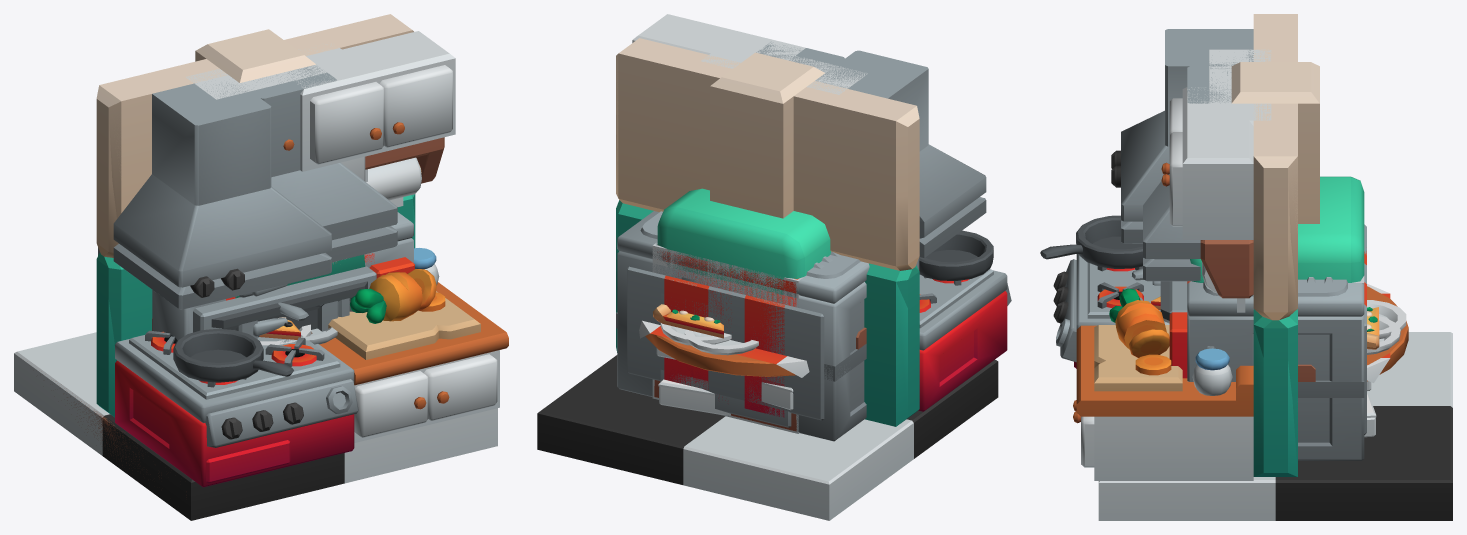
Rendered from props.glb.
The picture shows the model from 3 angles, left to right: view 1: azimuth 30°, elevation 25°; view 2: azimuth 150°, elevation 25°; view 3: azimuth 270°, elevation 25°; orthographic projection. The views are drawn at different scales.
Parts seen in each view (by area): view 1: wall_decorated, floor_kitchen, wall, extractorhood, wall_doorway, wall_orderwindow, pillar_B, pizza_oven, kitchencabinet, oven_door, pizza_oven_door, wall_half (+3 smaller); view 2: floor_kitchen, wall, wall_decorated, pizza_oven, wall_orderwindow, wall_doorway, pillar_B, fridge_A, oven, wall_half, wall_tiles_A, table_round_A (+10 smaller); view 3: wall_decorated, floor_kitchen, pizza_oven, wall, wall_orderwindow, wall_doorway, pillar_B, fridge_A, extractorhood, kitchencabinet, table_round_B_tablecloth_red_decorated, kitchentable_A_large (+6 smaller).
Boxes of the visible parts, x1,y1,x2,y2 form: wall_decorated: (113, 31, 508, 487); floor_kitchen: (14, 332, 497, 520); wall: (96, 14, 415, 417); extractorhood: (245, 65, 397, 262); wall_doorway: (96, 14, 414, 413); wall_orderwindow: (96, 15, 415, 411); pillar_B: (195, 29, 315, 82); pizza_oven: (98, 212, 414, 340); kitchencabinet: (186, 43, 367, 181); oven_door: (234, 276, 338, 339); pizza_oven_door: (193, 274, 367, 332); wall_half: (293, 15, 411, 55); floor_kitchen: (537, 355, 998, 520); wall: (616, 38, 919, 426); wall_decorated: (632, 14, 1011, 411); pizza_oven: (617, 211, 918, 441); wall_orderwindow: (616, 39, 918, 425); wall_doorway: (616, 38, 919, 426); pillar_B: (710, 52, 824, 218); fridge_A: (657, 188, 831, 302); oven: (662, 251, 798, 416); wall_half: (618, 39, 737, 234); wall_tiles_A: (652, 243, 804, 307); table_round_A: (645, 333, 795, 376); wall_decorated: (1040, 29, 1253, 480); floor_kitchen: (1098, 332, 1452, 520); pizza_oven: (1169, 224, 1366, 460); wall: (1253, 14, 1297, 476); wall_orderwindow: (1240, 14, 1315, 475); wall_doorway: (1253, 14, 1297, 473); pillar_B: (1231, 62, 1319, 223); fridge_A: (1298, 176, 1364, 282); extractorhood: (1143, 66, 1231, 281); kitchencabinet: (1209, 49, 1271, 125); table_round_B_tablecloth_red_decorated: (1151, 296, 1400, 354); kitchentable_A_large: (1187, 380, 1364, 397).
Size of the model in its own units: 4.01 by 5.01 by 4.66.
Materials: 15 (2 with a texture image).
